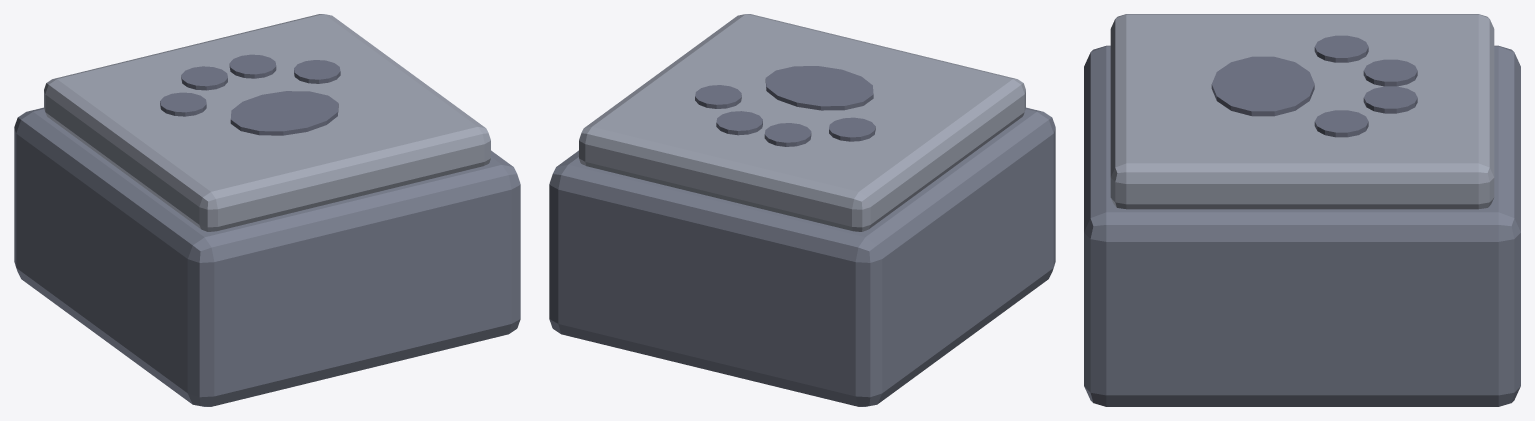
The model's file is wall_pillar.glb.
The picture shows the model from 3 angles, left to right: view 1: azimuth 30°, elevation 25°; view 2: azimuth 150°, elevation 25°; view 3: azimuth 270°, elevation 25°; orthographic projection. The views are drawn at different scales.
Visible parts, largest first — view 1: wall_pillar; view 2: wall_pillar; view 3: wall_pillar.
Boxes of the visible parts, x1=… form: wall_pillar: x1=14, y1=14, x2=520, y2=406; wall_pillar: x1=549, y1=14, x2=1055, y2=406; wall_pillar: x1=1084, y1=14, x2=1520, y2=406.
Bounding box in the file's own units: 0.98 × 0.592 × 0.98.
